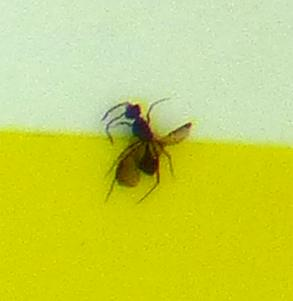Hymenoptera: (100, 100, 193, 201)
